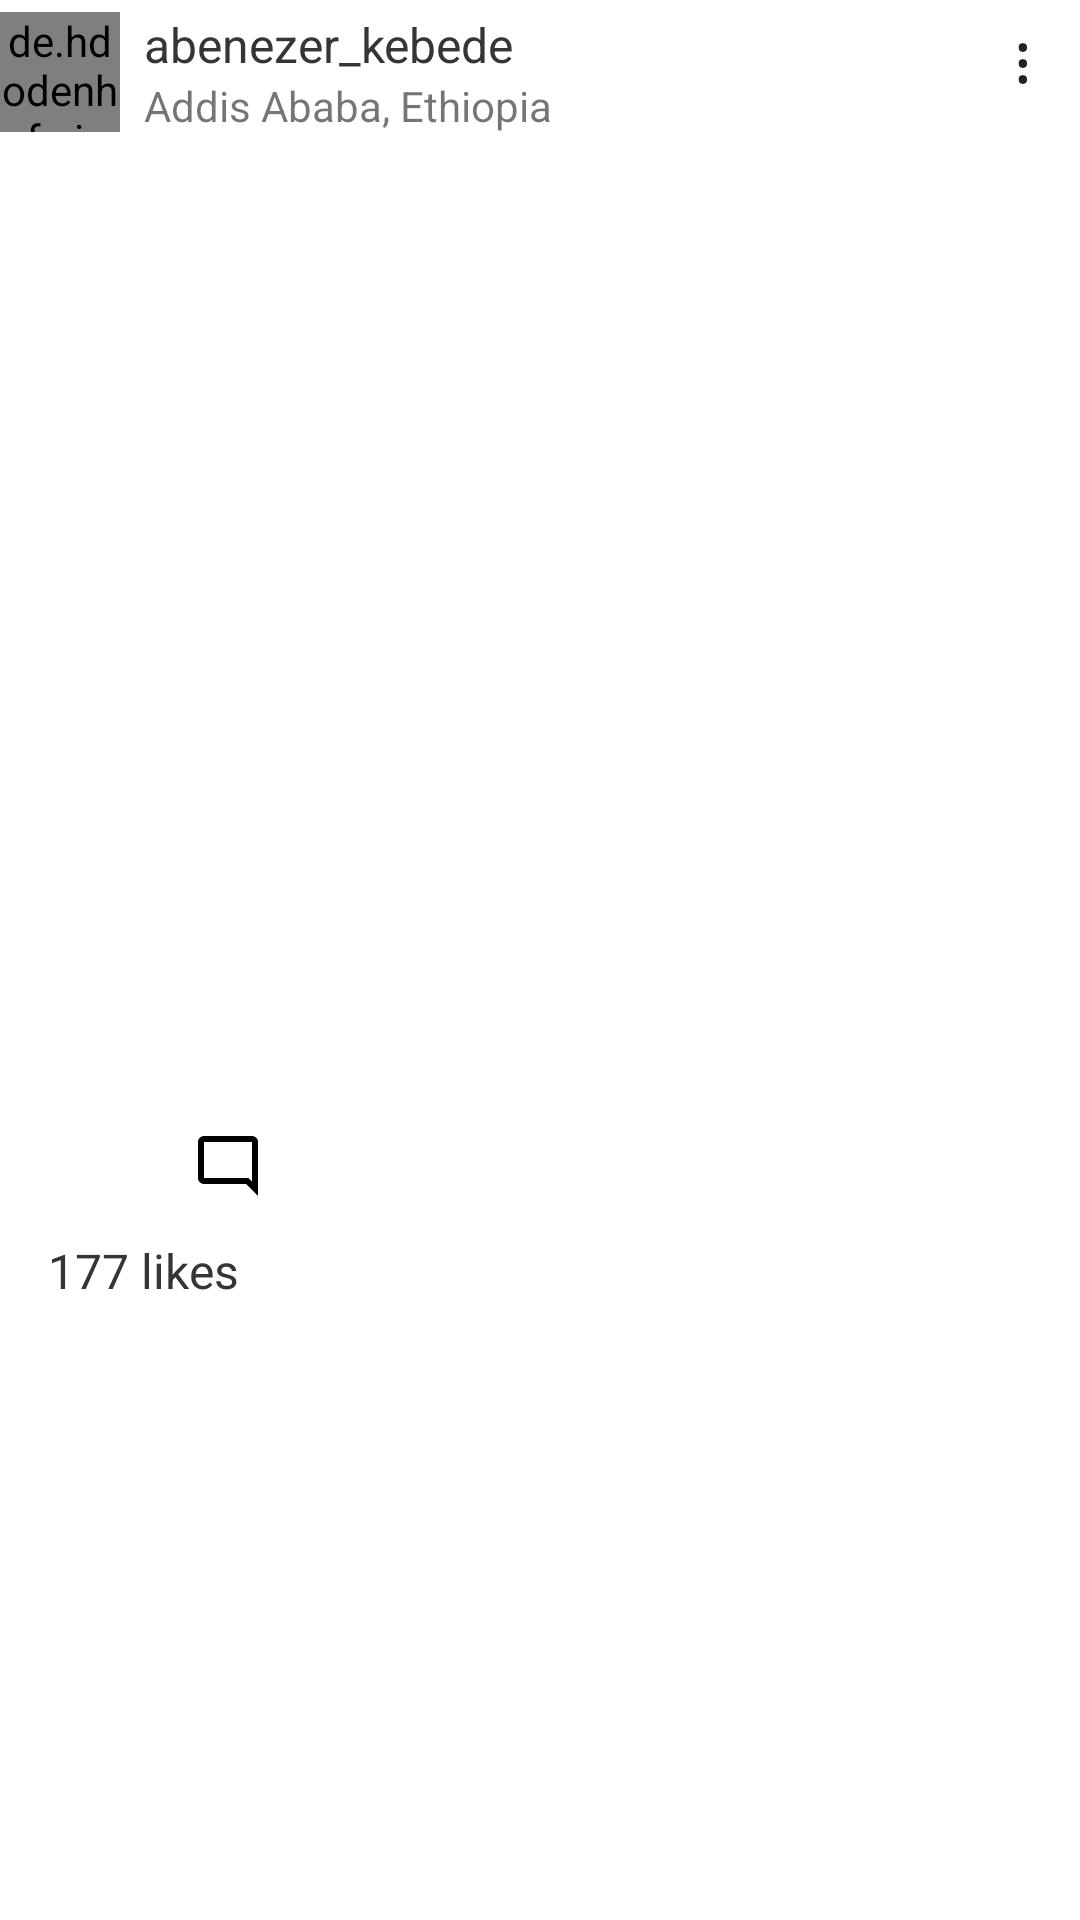

Icon bounding boxes for this 1080px x 1920px phone screenshot, format (x1, y1, x2, y2):
mode comment: (198, 1136, 258, 1196)
